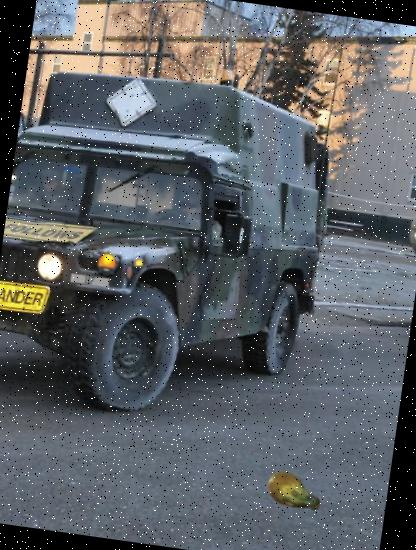Cactus: (262, 459, 328, 526)
